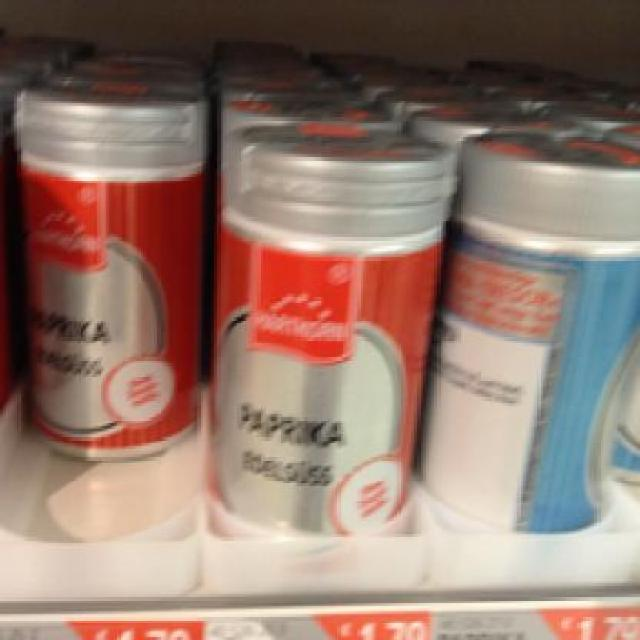Spices: (203, 120, 452, 529), (417, 130, 637, 526), (11, 82, 202, 458)
